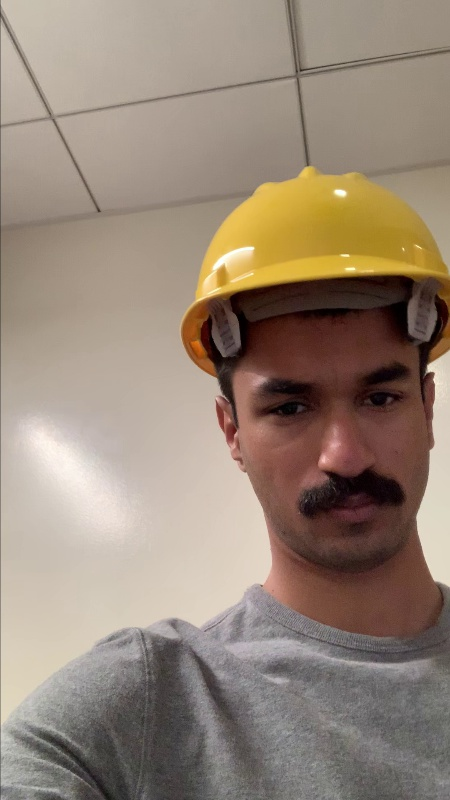helmet: (203, 165, 438, 278)
